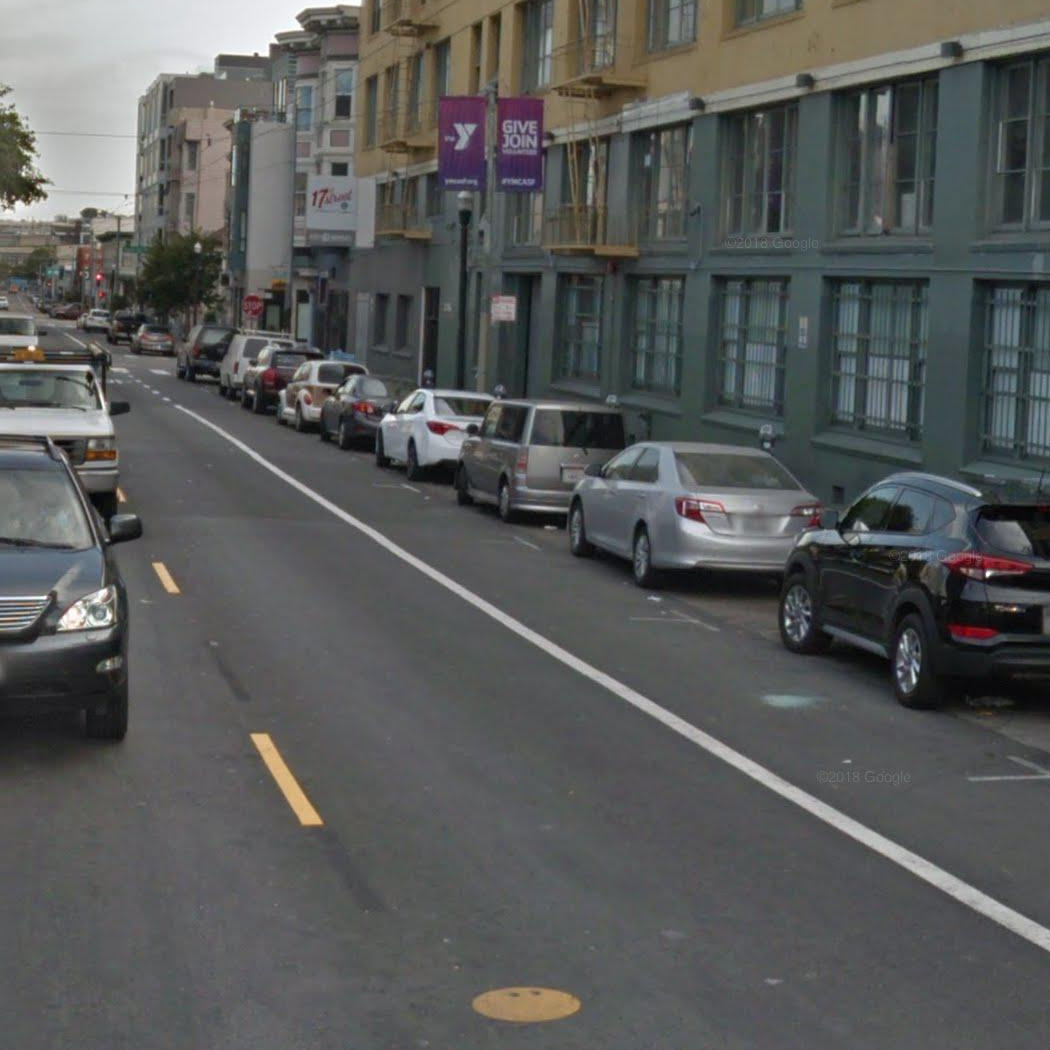No Parking: (489, 293, 517, 323)
